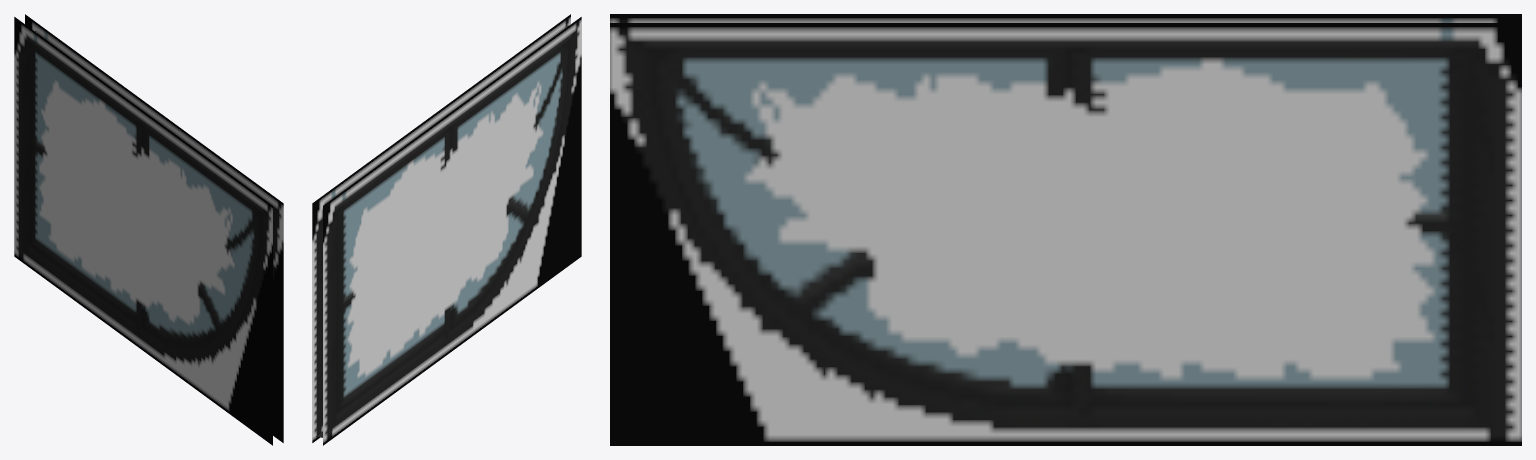
File: pz_native_fixtures_windows_metal_58_frame.obj
3 views of the same model, side by side, from view 1: azimuth 30°, elevation 25°; view 2: azimuth 150°, elevation 25°; view 3: azimuth 270°, elevation 25° (orthographic). The views are drawn at different scales.
Parts seen in each view (by area): view 1: pz_native_fixtures_windows_metal_58_frame; view 2: pz_native_fixtures_windows_metal_58_frame; view 3: pz_native_fixtures_windows_metal_58_frame.
Boxes of the visible parts, x1,y1,x2,y2 form: pz_native_fixtures_windows_metal_58_frame: (14,14,283,445); pz_native_fixtures_windows_metal_58_frame: (312,14,581,445); pz_native_fixtures_windows_metal_58_frame: (610,14,1521,445).
Bounding box in the file's own units: 0.04 × 0.875 × 1.71.
1 material, 1 textured.
